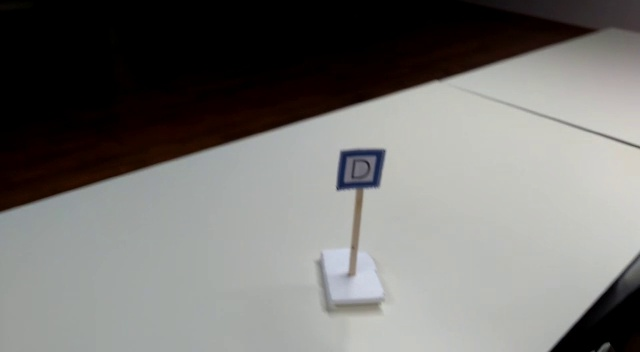durak: (336, 147, 386, 191)
